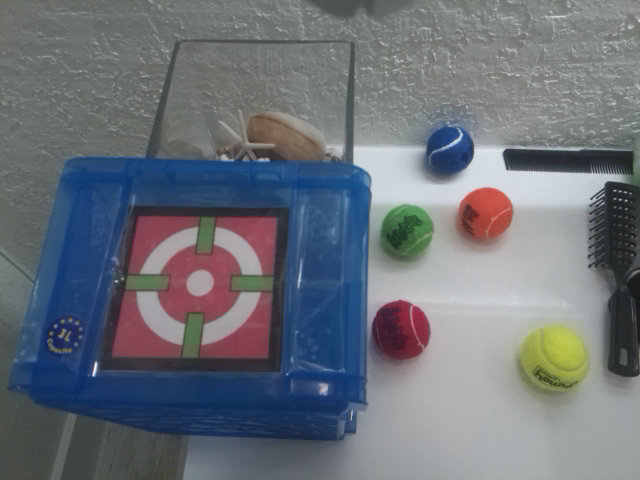blue-ball: (424, 125, 476, 176)
drop-bin: (100, 206, 288, 371)
green-ball: (378, 202, 436, 259)
orange-ball: (456, 186, 514, 243)
red-ball: (370, 299, 433, 361)
yellow-ball: (519, 324, 588, 393)
